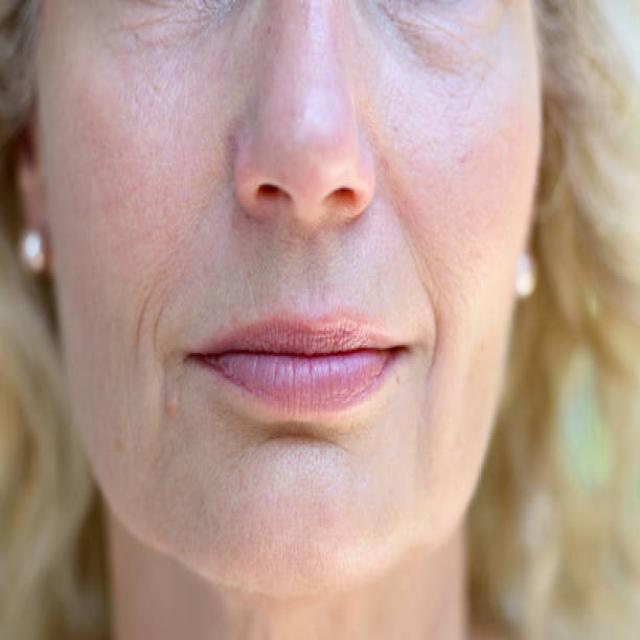Dry-Skin: (28, 32, 190, 410), (384, 53, 540, 330)
